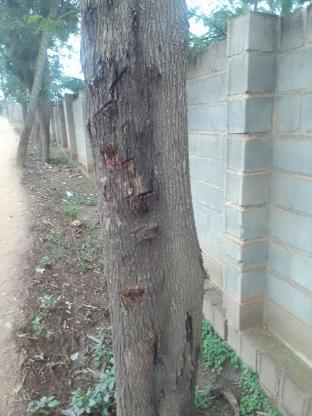tree: (76, 0, 215, 416)
